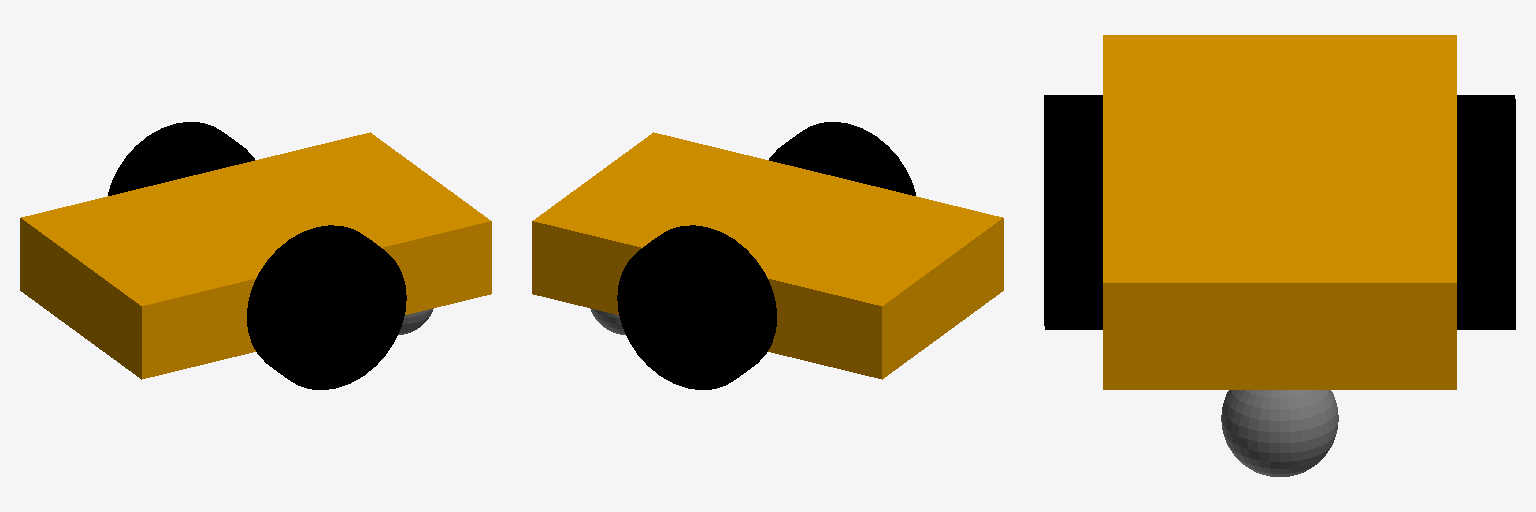
The robot description file, URDF, robot "my_robot":
<?xml version="1.0"?>
<robot name="my_robot">
  
  <link name="base_link">
    <visual>
      <geometry>
        <box size="0.5 0.3 0.1"/>
      </geometry>
      <material name="blue">
        <color rgba="0 0 0. 8 1"/>
      </material>
    </visual>
    <collision>
      <geometry>
        <box size="0.5 0.3 0.1"/>
      </geometry>
    </collision>
    <inertial>
      <mass value="5.0"/>
      <inertia ixx="0.1" ixy="0.0" ixz="0.0" iyy="0.1" iyz="0.0" izz="0.1"/>
    </inertial>
  </link>

  <link name="left_wheel">
    <visual>
      <geometry>
        <cylinder radius="0.1" length="0.05"/>
      </geometry>
      <material name="black">
        <color rgba="0 0 0 1"/>
      </material>
    </visual>
    <collision>
      <geometry>
        <cylinder radius="0.1" length="0.05"/>
      </geometry>
    </collision>
    <inertial>
      <mass value="0.5"/>
      <inertia ixx="0.01" ixy="0.0" ixz="0.0" iyy="0.01" iyz="0.0" izz="0.01"/>
    </inertial>
  </link>

  <joint name="left_wheel_joint" type="continuous">
    <parent link="base_link"/>
    <child link="left_wheel"/>
    <origin xyz="0 0.175 0" rpy="-1.5707 0 0"/>
    <axis xyz="0 0 1"/>
  </joint>

  <link name="right_wheel">
    <visual>
      <geometry>
        <cylinder radius="0.1" length="0.05"/>
      </geometry>
      <material name="black">
        <color rgba="0 0 0 1"/>
      </material>
    </visual>
    <collision>
      <geometry>
        <cylinder radius="0.1" length="0.05"/>
      </geometry>
    </collision>
    <inertial>
      <mass value="0.5"/>
      <inertia ixx="0.01" ixy="0.0" ixz="0.0" iyy="0.01" iyz="0.0" izz="0.01"/>
    </inertial>
  </link>

  <joint name="right_wheel_joint" type="continuous">
    <parent link="base_link"/>
    <child link="right_wheel"/>
    <origin xyz="0 -0.175 0" rpy="-1.5707 0 0"/>
    <axis xyz="0 0 1"/>
  </joint>

  <link name="caster_wheel">
    <visual>
      <geometry>
        <sphere radius="0.05"/>
      </geometry>
      <material name="gray">
        <color rgba="0.5 0.5 0.5 1"/>
      </material>
    </visual>
    <collision>
      <geometry>
        <sphere radius="0.05"/>
      </geometry>
    </collision>
    <inertial>
      <mass value="0.1"/>
      <inertia ixx="0.001" ixy="0.0" ixz="0.0" iyy="0.001" iyz="0.0" izz="0.001"/>
    </inertial>
  </link>

  <joint name="caster_wheel_joint" type="fixed">
    <parent link="base_link"/>
    <child link="caster_wheel"/>
    <origin xyz="0.2 0 -0.1" rpy="0 0 0"/>
  </joint>

  <gazebo reference="left_wheel">
    <mu1>1.0</mu1>
    <mu2>1.0</mu2>
    <kp>1000000.0</kp>
    <kd>100.0</kd>
    <minDepth>0.001</minDepth>
    <maxVel>1.0</maxVel>
    <material>Gazebo/Black</material>
  </gazebo>

  <gazebo reference="right_wheel">
    <mu1>1.0</mu1>
    <mu2>1.0</mu2>
    <kp>1000000.0</kp>
    <kd>100.0</kd>
    <minDepth>0.001</minDepth>
    <maxVel>1.0</maxVel>
    <material>Gazebo/Black</material>
  </gazebo>

  <gazebo reference="caster_wheel">
    <mu1>0.0</mu1>
    <mu2>0.0</mu2>
    <kp>1000000.0</kp>
    <kd>100.0</kd>
    <material>Gazebo/Grey</material>
  </gazebo>

  <gazebo reference="base_link">
    <material>Gazebo/Blue</material>
  </gazebo>

  <gazebo>
    <plugin name="differential_drive_controller" filename="libgazebo_ros_diff_drive. so">
      <update_rate>50</update_rate>
      <left_joint>left_wheel_joint</left_joint>
      <right_joint>right_wheel_joint</right_joint>
      <wheel_separation>0.35</wheel_separation>
      <wheel_diameter>0.2</wheel_diameter>
      <max_wheel_torque>20</max_wheel_torque>
      <max_wheel_acceleration>1.0</max_wheel_acceleration>
      <command_topic>cmd_vel</command_topic>
      <publish_odom>true</publish_odom>
      <publish_odom_tf>true</publish_odom_tf>
      <publish_wheel_tf>false</publish_wheel_tf>
      <odometry_topic>odom</odometry_topic>
      <odometry_frame>odom</odometry_frame>
      <robot_base_frame>base_link</robot_base_frame>
    </plugin>
  </gazebo>

</robot>

--- Render facts (derived) ---
The picture shows the robot from 3 angles, left to right: view 1: azimuth 30°, elevation 25°; view 2: azimuth 150°, elevation 25°; view 3: azimuth 270°, elevation 25°; orthographic projection.
Robot: my_robot — 4 links, 3 joints (2 continuous, 1 fixed); root link base_link; default pose: every joint at zero.
Visible links, largest first — view 1: base_link, right_wheel, left_wheel; view 2: base_link, left_wheel, right_wheel; view 3: base_link, left_wheel, right_wheel, caster_wheel.
Link boxes in pixels (x1,y1,x2,y2): base_link: (20,132,491,379); right_wheel: (247,225,406,389); left_wheel: (108,122,254,195); base_link: (532,132,1003,379); left_wheel: (617,225,776,389); right_wheel: (769,122,915,195); base_link: (1103,35,1456,389); left_wheel: (1457,95,1515,329); right_wheel: (1044,95,1102,329); caster_wheel: (1221,390,1338,476).
Bounding box of the posed robot: 0.5 × 0.4 × 0.25 m (x, y, z).
Geometry: primitives only (box / cylinder / sphere), no mesh files.
